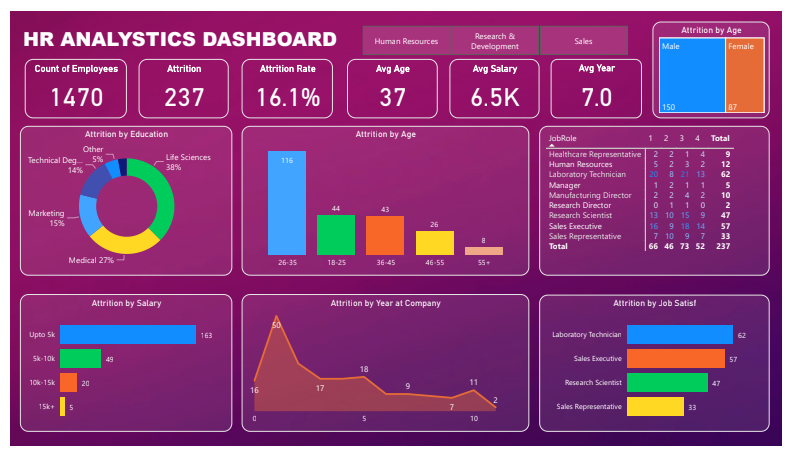

This screenshot's page, from the dashboard's own definition file:
{"tool":"powerbi","page":{"name":"Page 5","canvas":[1280,720],"ordinal":1},"visuals":[{"type":"cardVisual","fields":{"Data":["CountNonNull(HR_Analytics.EmpID)"]},"box":[270.6,91.4,129.7,92.2],"z":0},{"type":"cardVisual","fields":{"Data":["Sum(HR_Analytics.Attrition_)"]},"box":[481.4,91.4,130,92.2],"z":1000},{"type":"image","box":[221.6,109.6,50,50],"z":2000},{"type":"cardVisual","fields":{"Data":["HR_Analytics.Attrition_Rate"]},"box":[692.4,91.4,130,92.2],"z":3000},{"type":"image","box":[650.6,111.9,43.8,45.3],"z":4000},{"type":"cardVisual","fields":{"Data":["Avg(HR_Analytics.MonthlyIncome)"]},"box":[1114.6,91.4,130,92.2],"z":5000},{"type":"image","box":[1068.7,109.6,59.4,50],"z":6000},{"type":"cardVisual","fields":{"Data":["Avg(HR_Analytics.Age)"]},"box":[903.5,91.4,130,92.2],"z":7000},{"type":"image","box":[858.9,111.9,45.3,45.3],"z":8000},{"type":"image","box":[436.1,109.6,50,50],"z":9000},{"type":"columnChart","title":"Attrition by Age","fields":{"Category":["HR_Analytics.AgeGroup"],"Y":["Sum(HR_Analytics.Attrition_)"]},"box":[217.3,225.1,378.2,218.8],"z":10000},{"type":"areaChart","title":"Attrition by Year at Company","fields":{"Category":["HR_Analytics.YearsAtCompany"],"Y":["Sum(HR_Analytics.Attrition_)"]},"box":[217.3,462.3,378.2,209.4],"z":11000},{"type":"donutChart","title":"Attrition by Education","fields":{"Category":["HR_Analytics.EducationField"],"Y":["Sum(HR_Analytics.Attrition_)"]},"box":[617.4,225.1,301.7,218.8],"z":12000},{"type":"barChart","title":"Attrition by Salary","fields":{"Category":["HR_Analytics.SalarySlab"],"Y":["Sum(HR_Analytics.Attrition_)"]},"box":[615.1,465.4,306.3,206.3],"z":13000},{"type":"funnel","title":"Attrition by Job Role","fields":{"Category":["HR_Analytics.JobRole"],"Y":["Sum(HR_Analytics.Attrition_)"]},"box":[941,465.4,311,206.3],"z":14000},{"type":"pivotTable","fields":{"Values":["Sum(HR_Analytics.Attrition_)"],"Columns":["HR_Analytics.JobSatisfaction"],"Rows":["HR_Analytics.JobRole"]},"box":[941,225.1,311,218.8],"z":14001}]}

Visuals, with their boxes in screenshot pixels (x1, y1, x2, y2), scaled from the page's 1280x720 canvas onto the 794x454 screenshot:
cardVisual - CountNonNull(HR_Analytics.EmpID): bbox=[168, 58, 248, 116]
cardVisual - Sum(HR_Analytics.Attrition_): bbox=[299, 58, 379, 116]
image: bbox=[137, 69, 168, 101]
cardVisual - HR_Analytics.Attrition_Rate: bbox=[430, 58, 510, 116]
image: bbox=[404, 71, 431, 99]
cardVisual - Avg(HR_Analytics.MonthlyIncome): bbox=[691, 58, 772, 116]
image: bbox=[663, 69, 700, 101]
cardVisual - Avg(HR_Analytics.Age): bbox=[560, 58, 641, 116]
image: bbox=[533, 71, 561, 99]
image: bbox=[271, 69, 302, 101]
"Attrition by Age" columnChart: bbox=[135, 142, 369, 280]
"Attrition by Year at Company" areaChart: bbox=[135, 292, 369, 424]
"Attrition by Education" donutChart: bbox=[383, 142, 570, 280]
"Attrition by Salary" barChart: bbox=[382, 293, 572, 424]
"Attrition by Job Role" funnel: bbox=[584, 293, 777, 424]
pivotTable - Sum(HR_Analytics.Attrition_) x HR_Analytics.JobSatisfaction: bbox=[584, 142, 777, 280]
